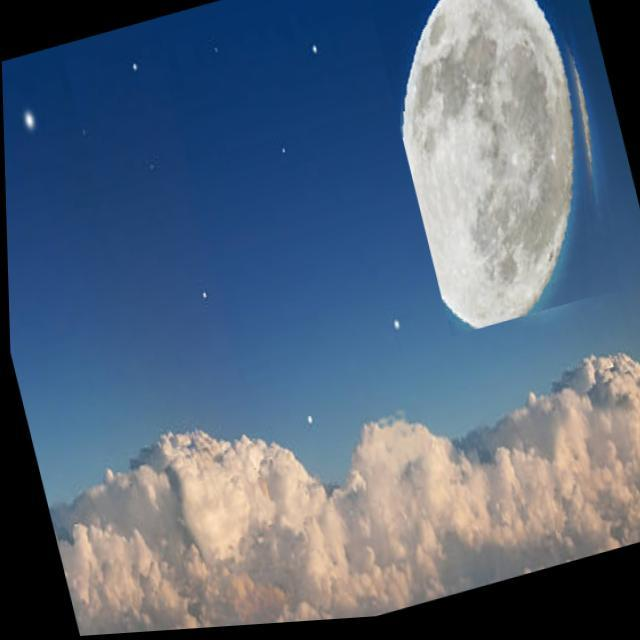moon: (363, 0, 637, 346)
